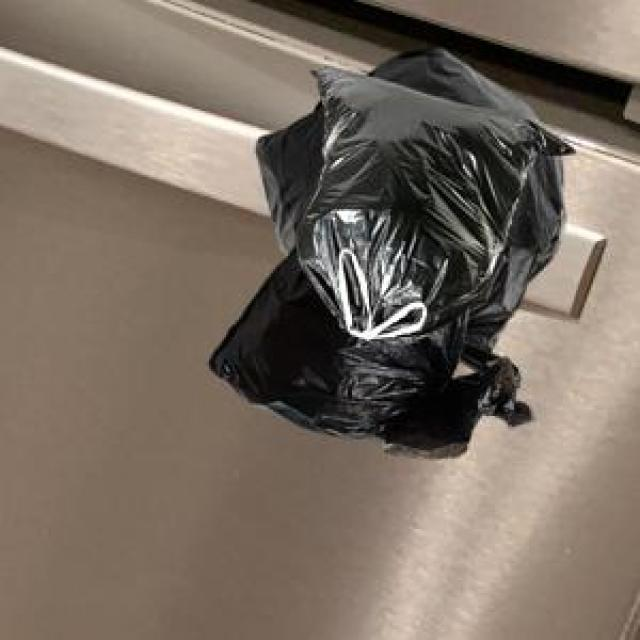garbage_bag: (205, 41, 576, 459)
